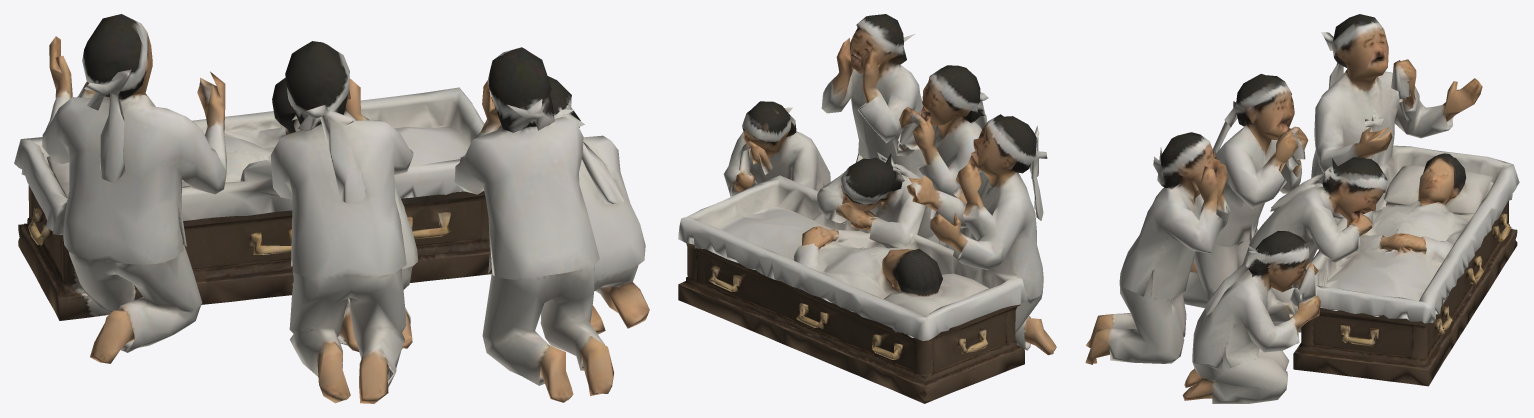
File: Luksa-512(10k).glb
3 views of the same model, side by side, from view 1: azimuth 30°, elevation 25°; view 2: azimuth 150°, elevation 25°; view 3: azimuth 270°, elevation 25° (orthographic). The views are drawn at different scales.
Parts seen in each view (by area): view 1: tripo_node_d0b9b591-8a97-49cc-9a91-26d4ef4f0af2; view 2: tripo_node_d0b9b591-8a97-49cc-9a91-26d4ef4f0af2; view 3: tripo_node_d0b9b591-8a97-49cc-9a91-26d4ef4f0af2.
Part boxes in pixels (box(x1,y1,x2,y2)): tripo_node_d0b9b591-8a97-49cc-9a91-26d4ef4f0af2: box(14, 14, 649, 403); tripo_node_d0b9b591-8a97-49cc-9a91-26d4ef4f0af2: box(678, 14, 1056, 403); tripo_node_d0b9b591-8a97-49cc-9a91-26d4ef4f0af2: box(1085, 14, 1519, 403).
Size of the model in its own units: 0.9383 by 0.5972 by 0.9792.
Materials: 1 (1 with a texture image).
